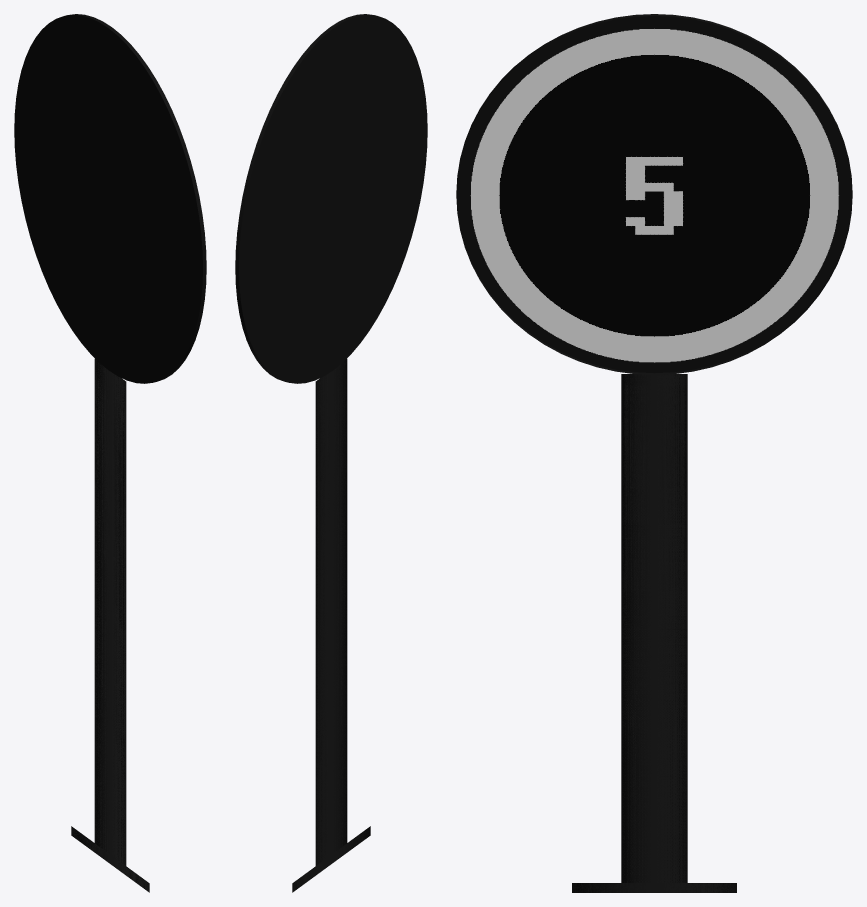
File: tabela_5.dae
3 views of the same model, side by side, from view 1: azimuth 30°, elevation 25°; view 2: azimuth 150°, elevation 25°; view 3: azimuth 270°, elevation 25° (orthographic). The views are drawn at different scales.
Visible parts, largest first — view 1: B, D, C, G; view 2: B, D, C, G; view 3: A, D, B, C, G.
Part boxes in pixels (x1=…): B: x1=14, y1=15, x2=202, y2=383; D: x1=94, y1=359, x2=126, y2=865; C: x1=66, y1=14, x2=206, y2=382; G: x1=71, y1=826, x2=149, y2=892; B: x1=239, y1=15, x2=427, y2=383; D: x1=315, y1=359, x2=347, y2=865; C: x1=235, y1=14, x2=375, y2=382; G: x1=292, y1=826, x2=370, y2=892; A: x1=470, y1=28, x2=838, y2=362; D: x1=621, y1=374, x2=687, y2=882; B: x1=456, y1=16, x2=852, y2=373; C: x1=456, y1=14, x2=852, y2=374; G: x1=572, y1=883, x2=736, y2=892.
Size of what is drawn, in the model's own units: 8 by 720 by 1760.
Materials: 2 (1 with a texture image).
